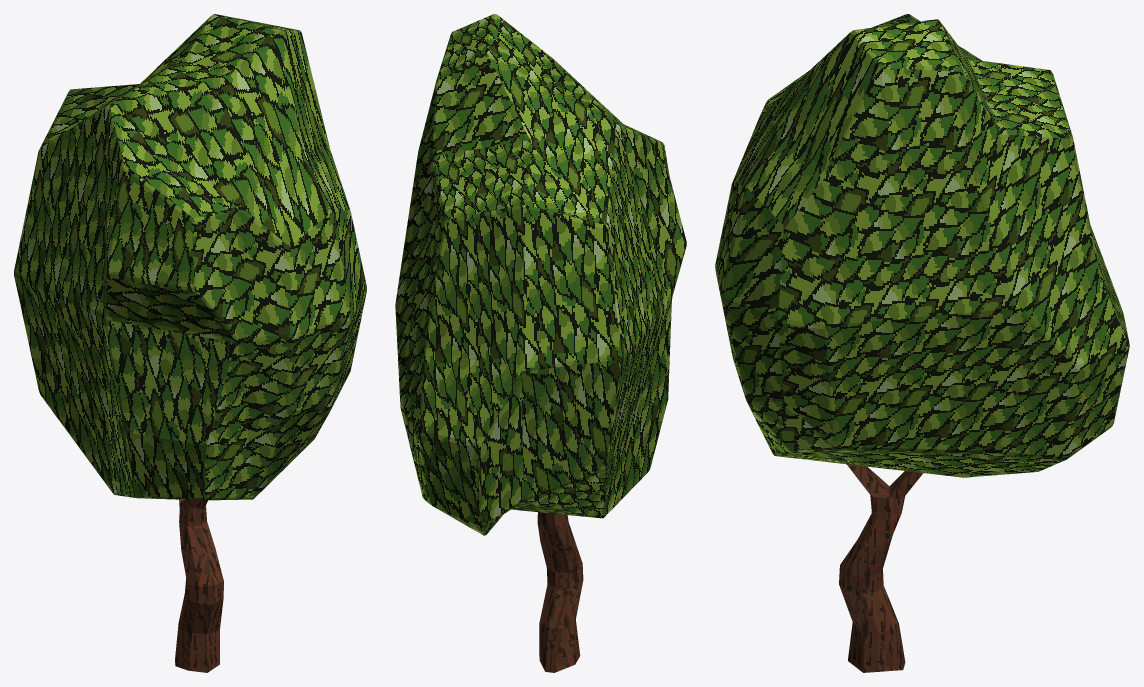
File: TREE3.fbx
3 renders of one model, left to right at view 1: azimuth 30°, elevation 25°; view 2: azimuth 150°, elevation 25°; view 3: azimuth 270°, elevation 25°, orthographic. The views are drawn at different scales.
Parts seen in each view (by area): view 1: Cube, Cylinder; view 2: Cube, Cylinder; view 3: Cube, Cylinder.
Part boxes in pixels (<box>): Cube: <box>14,14,366,500</box>; Cylinder: <box>175,499,223,672</box>; Cube: <box>395,14,686,535</box>; Cylinder: <box>537,512,583,672</box>; Cube: <box>715,14,1129,477</box>; Cylinder: <box>839,464,923,672</box>.
Size of the model in its own units: 1588 by 3642 by 2017.
2 materials, 2 textured.
